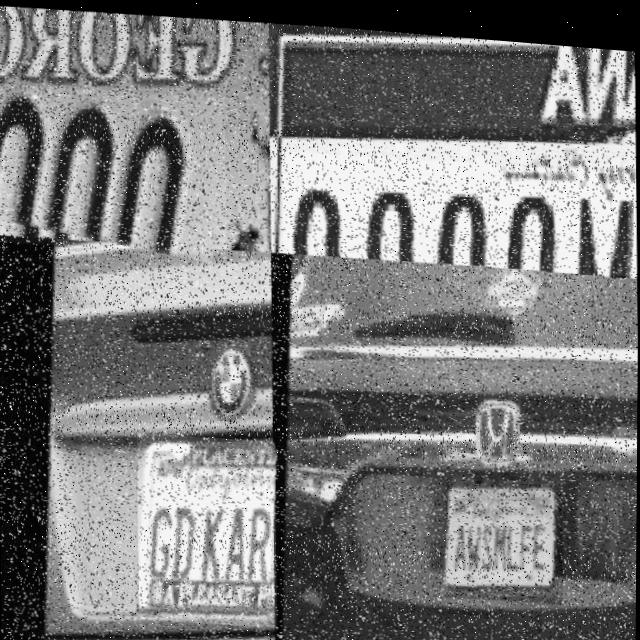LicensePlate: (281, 140, 638, 271), (0, 79, 227, 256), (136, 428, 279, 626), (446, 469, 563, 596)
